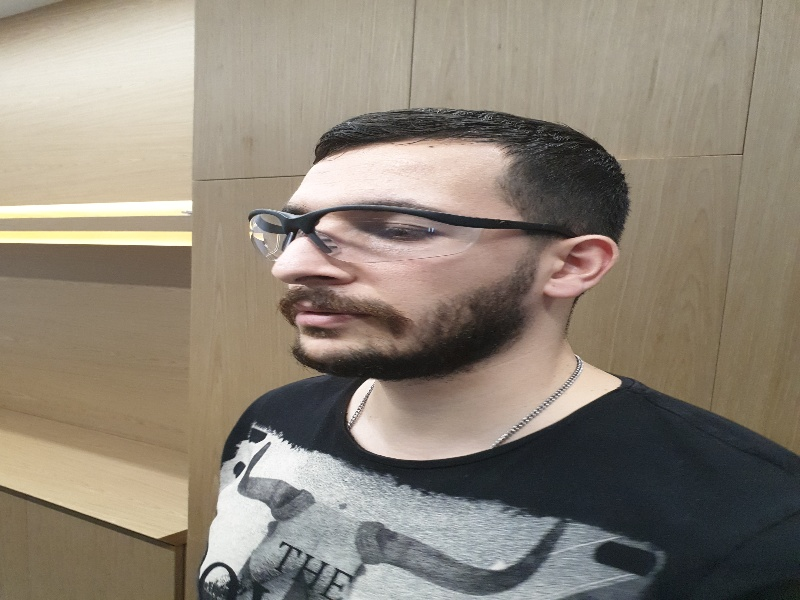Gozluk: (243, 206, 568, 269)
